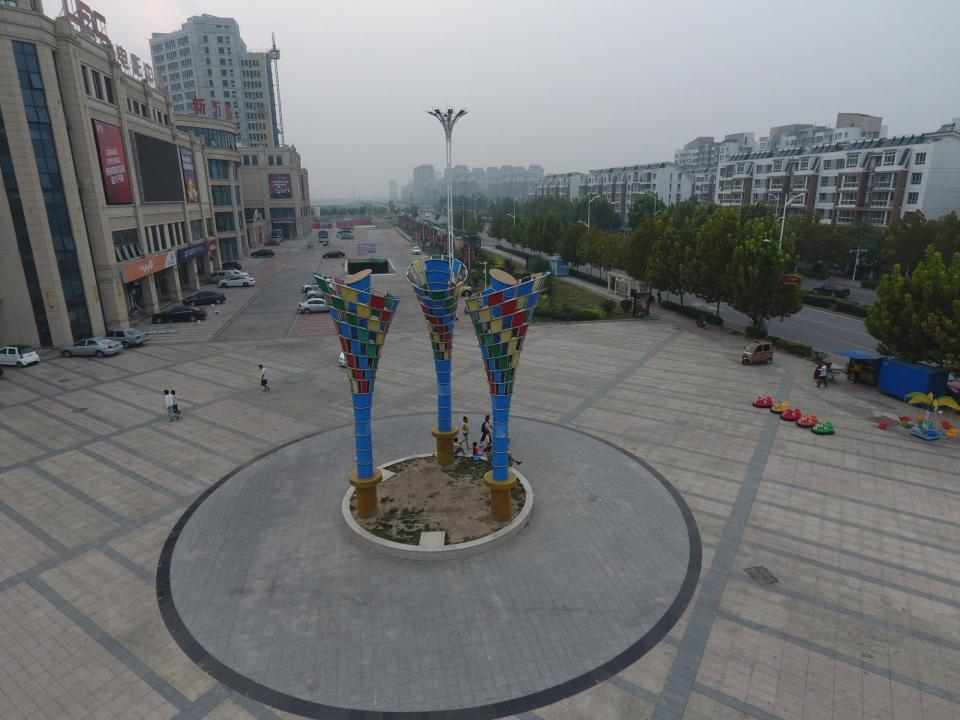car: (58, 336, 123, 360), (106, 326, 148, 350), (150, 307, 210, 321), (3, 344, 38, 368), (181, 290, 225, 306), (811, 284, 850, 299), (297, 298, 332, 314), (301, 278, 336, 292), (207, 271, 248, 282), (222, 274, 256, 286), (320, 248, 348, 258), (248, 249, 275, 257), (222, 258, 243, 267), (309, 289, 331, 297), (316, 228, 328, 241), (266, 237, 280, 243), (412, 244, 420, 253), (340, 232, 354, 237), (342, 227, 352, 233)
